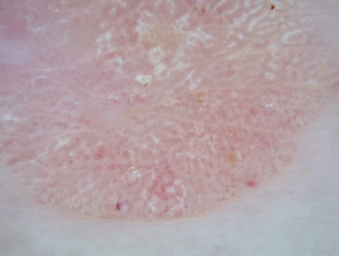seborrheic keratosis: (8, 3, 322, 228)
